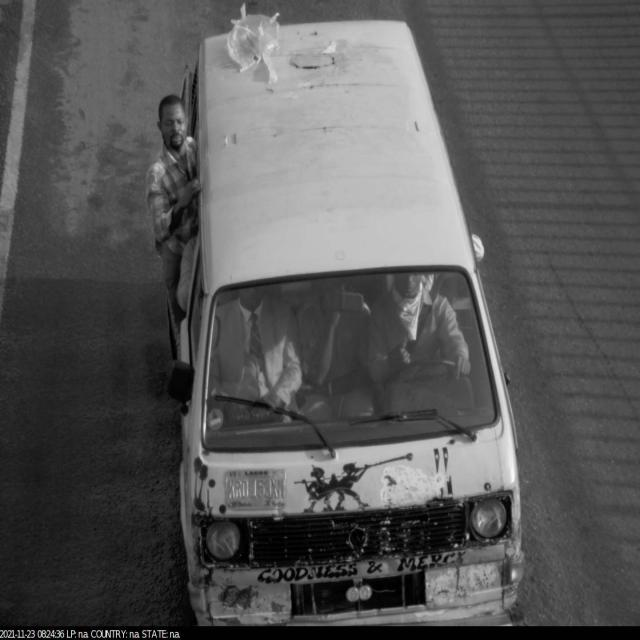windshield: (182, 260, 530, 466)
